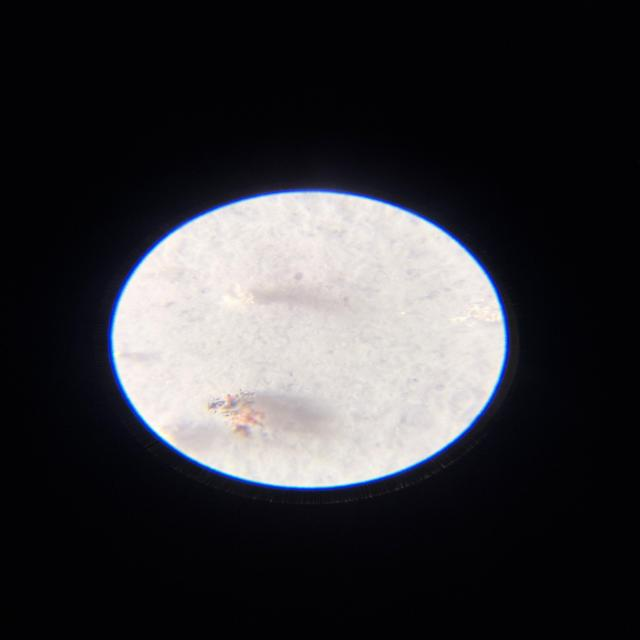microplastic_type_0: (207, 390, 265, 439)
microplastic_type_1: (202, 283, 256, 313)
